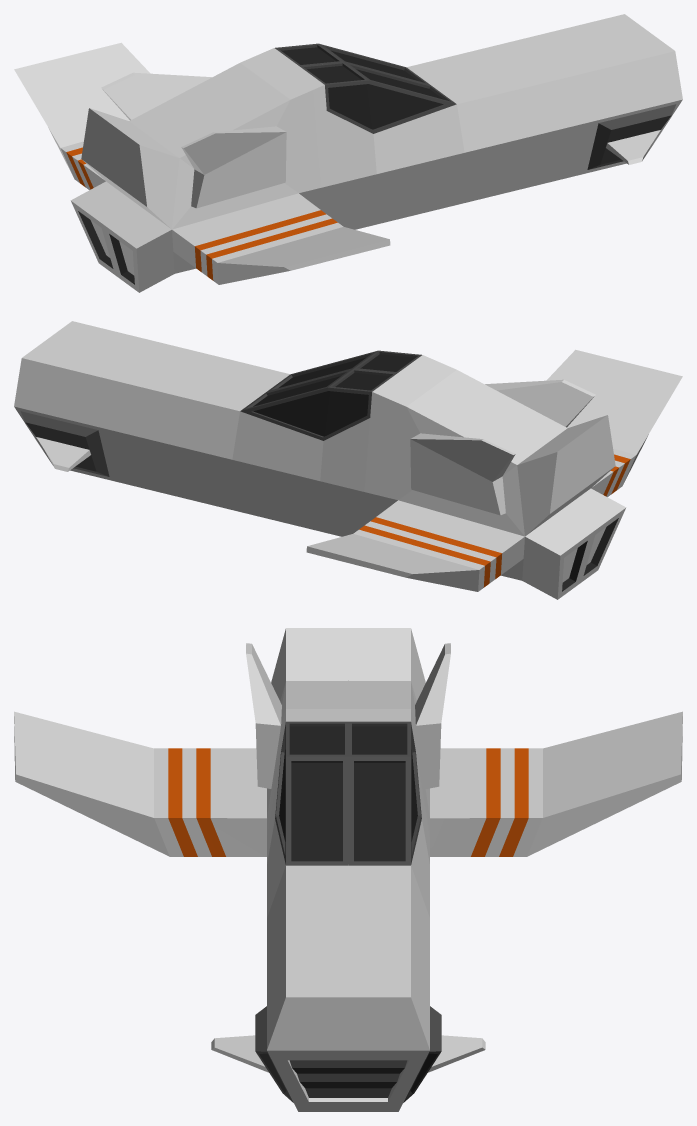
Rendered from PlaneFirst.fbx.
3 renders of one model, top to bottom at view 1: azimuth 30°, elevation 25°; view 2: azimuth 150°, elevation 25°; view 3: azimuth 270°, elevation 25°, orthographic. The views are drawn at different scales.
Parts seen in each view (by area): view 1: Grey; view 2: Grey; view 3: Grey.
Boxes of the visible parts, left/top/right/bottom form: Grey: left=14, top=14, right=682, bottom=292; Grey: left=14, top=321, right=682, bottom=599; Grey: left=14, top=628, right=682, bottom=1111.
Size of the model in its own units: 1249 by 366 by 1069.
